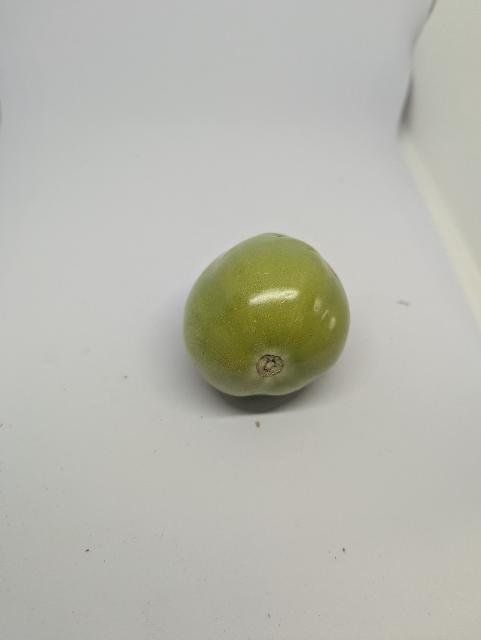green: (158, 211, 353, 407)
